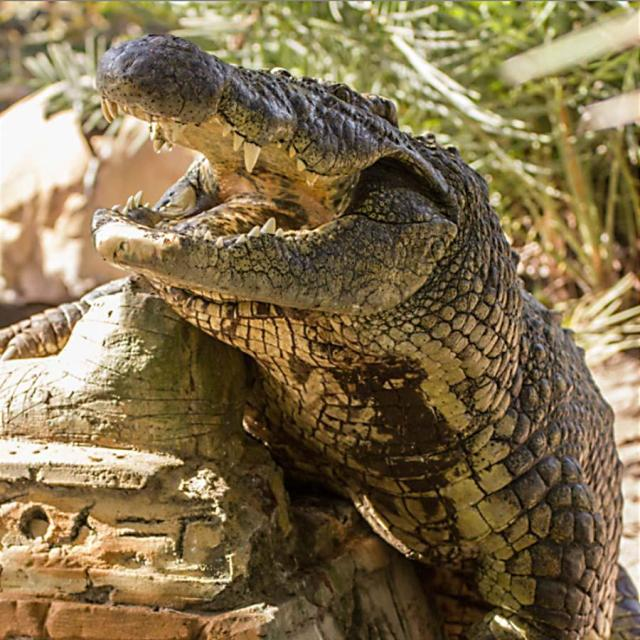crocodile: (62, 6, 639, 639)
